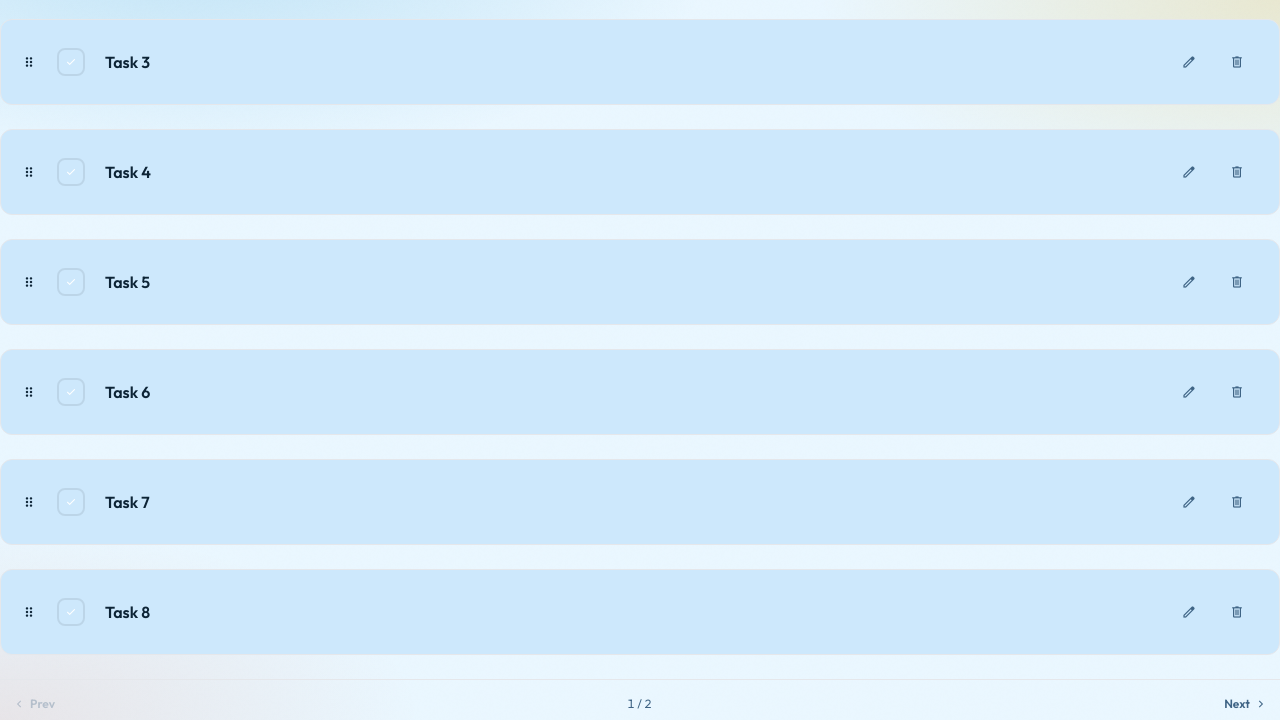
Test case: pagination › Prev button navigates back to page 1
(page scrolled)
Click the button "Next".
click(1246, 704)  # box [1212,688,1279,719]
(page scrolled)
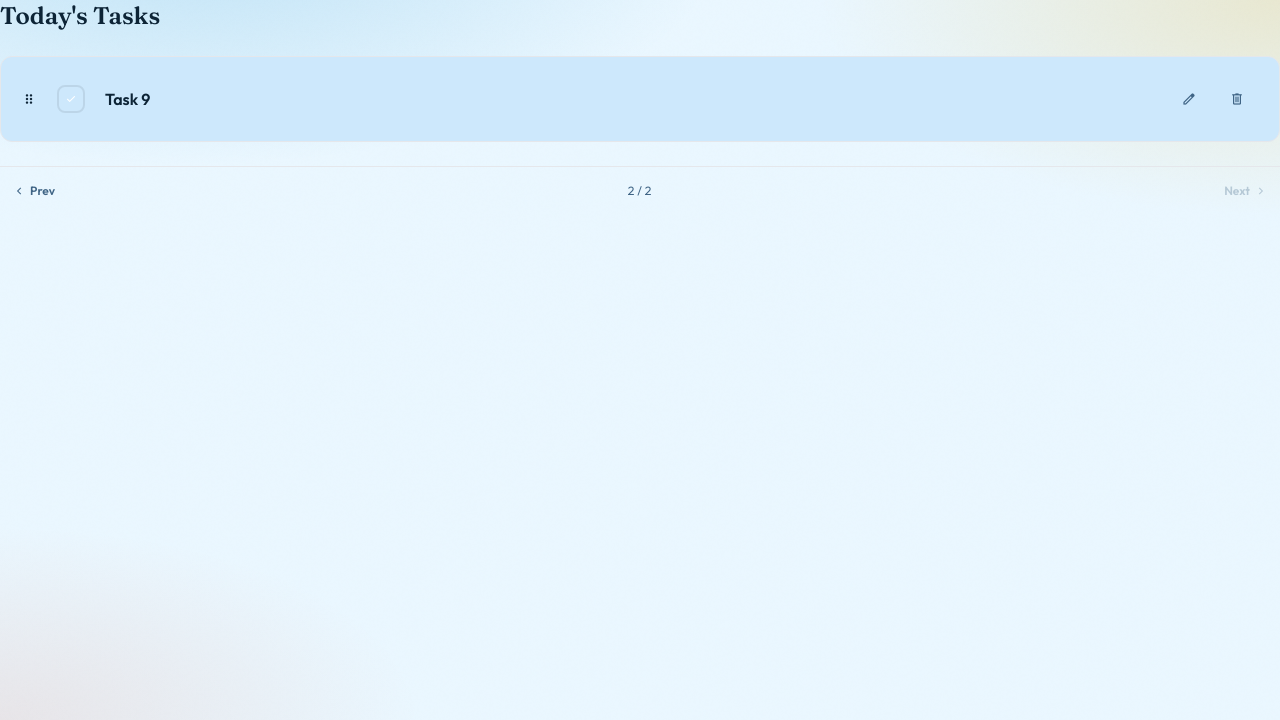
Now the button "Task 9" is shown, box [105,87,1147,111]
Click the button "Prev".
click(33, 191)  # box [0,175,67,207]
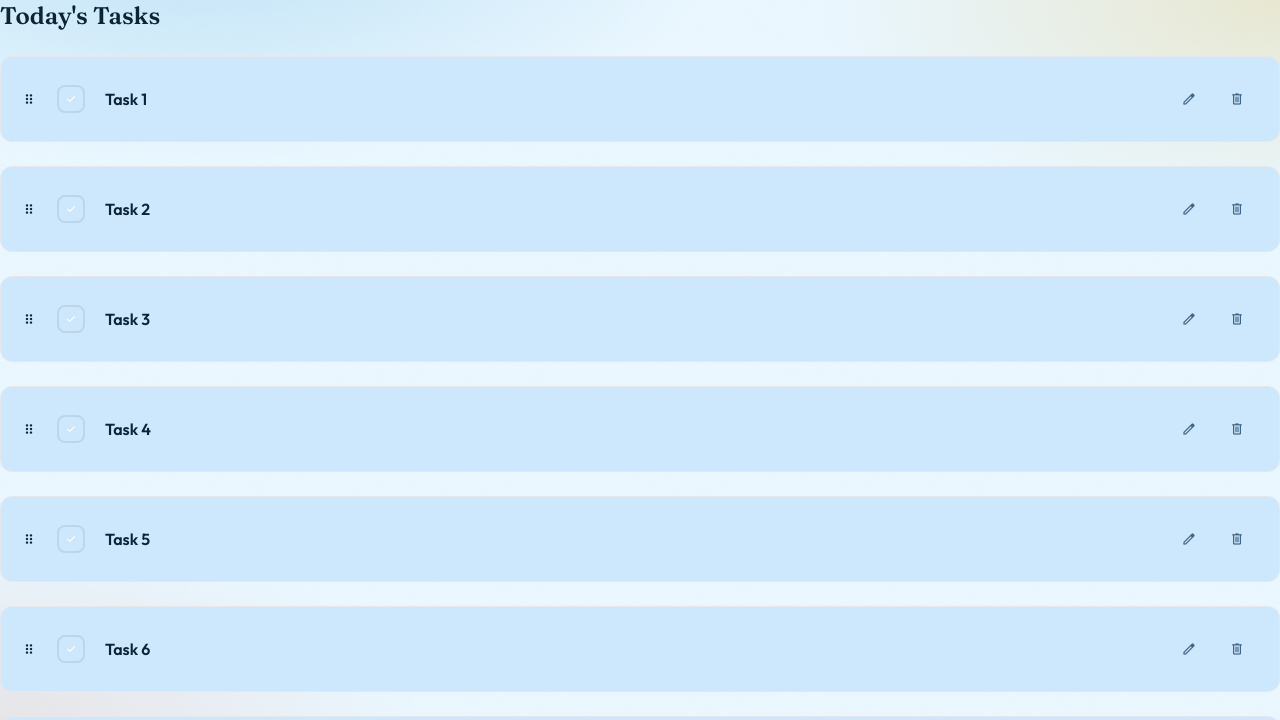
Now the button "Task 9" is gone
Now the button "Task 1" is shown, box [105,87,1147,111]
